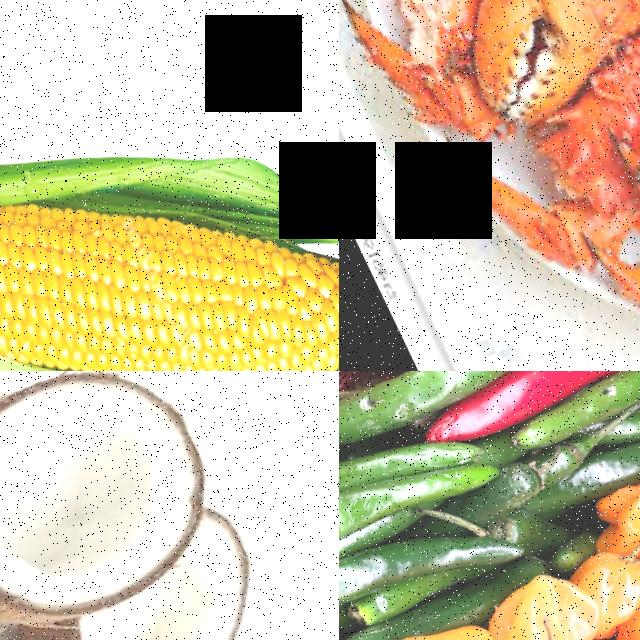chilli: (339, 492, 528, 640), (339, 431, 504, 598), (402, 371, 640, 456)
coconut: (0, 371, 238, 640), (0, 550, 298, 640)
corn: (0, 51, 339, 371)
crab: (339, 0, 640, 371)
